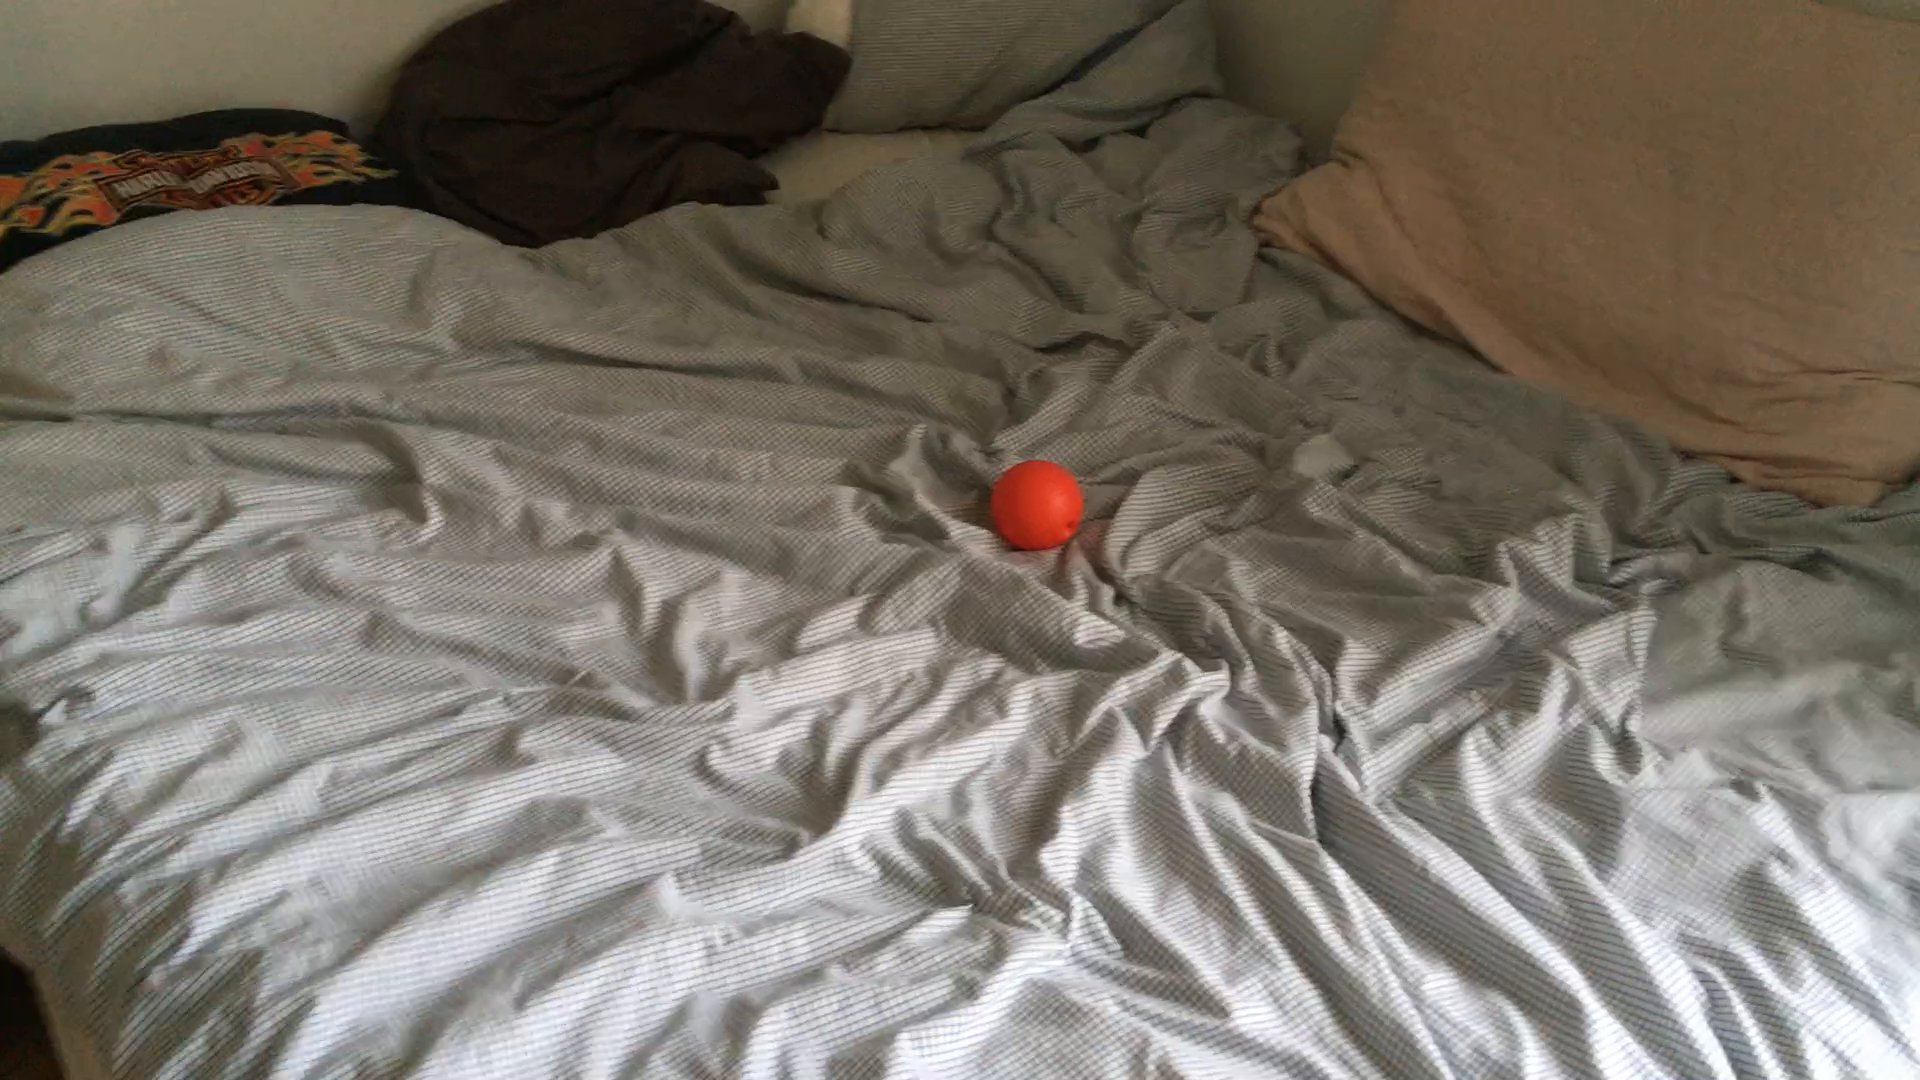Ball: (988, 460, 1084, 551)
